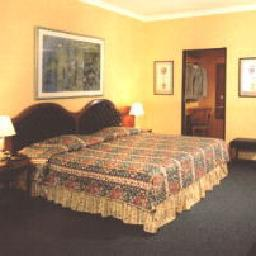Cama: (25, 133, 227, 227)
